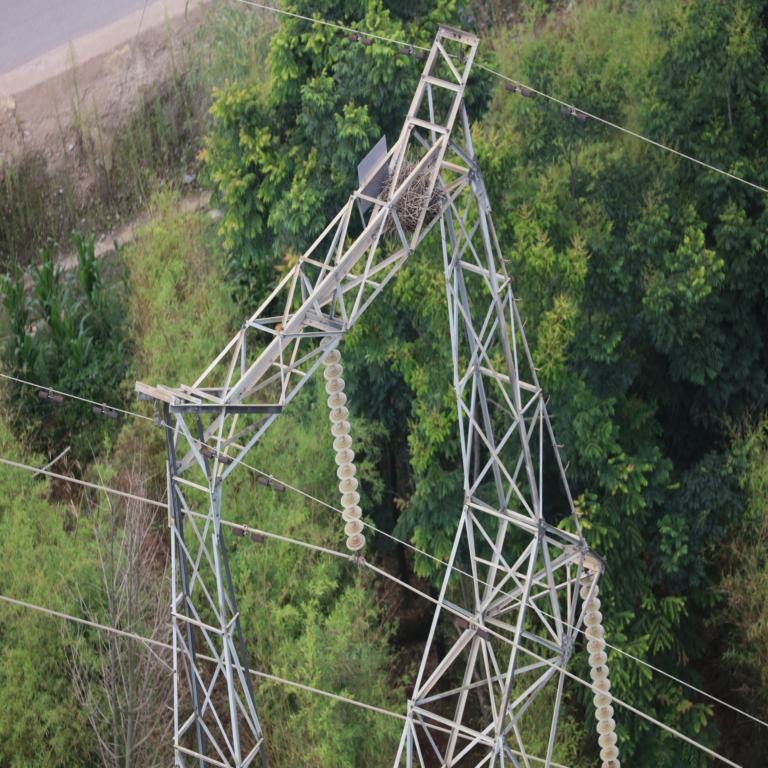nest: (385, 166, 447, 235)
